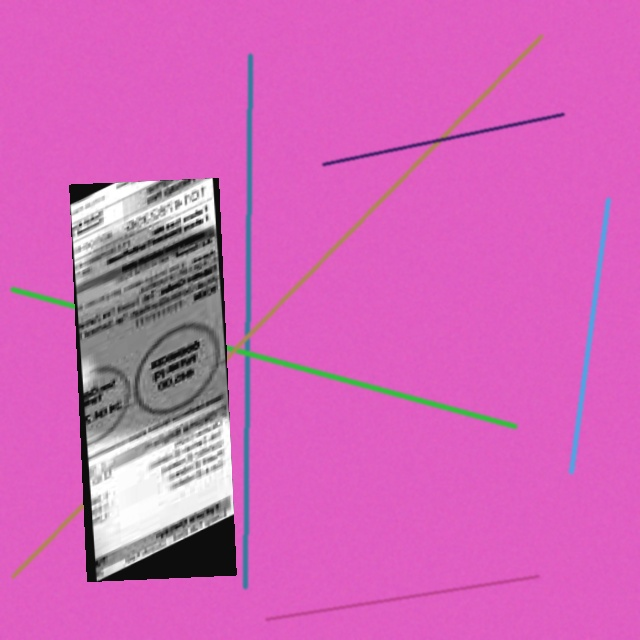electricity-bill: (68, 178, 236, 582)
